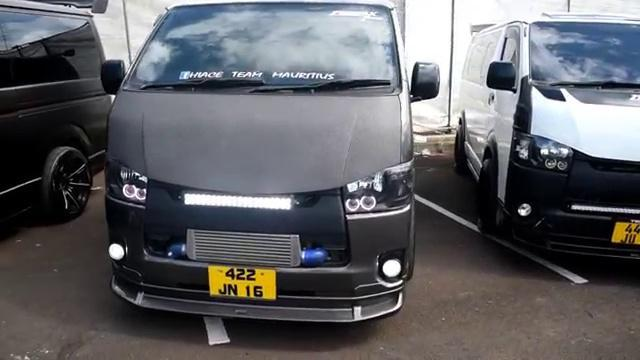van: (106, 1, 415, 318), (455, 12, 640, 276)
